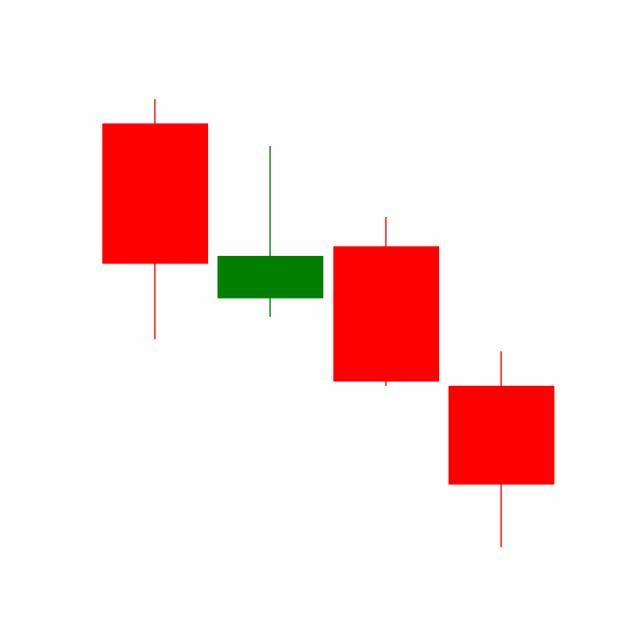Three Outside Up-Down: (211, 142, 555, 549)
